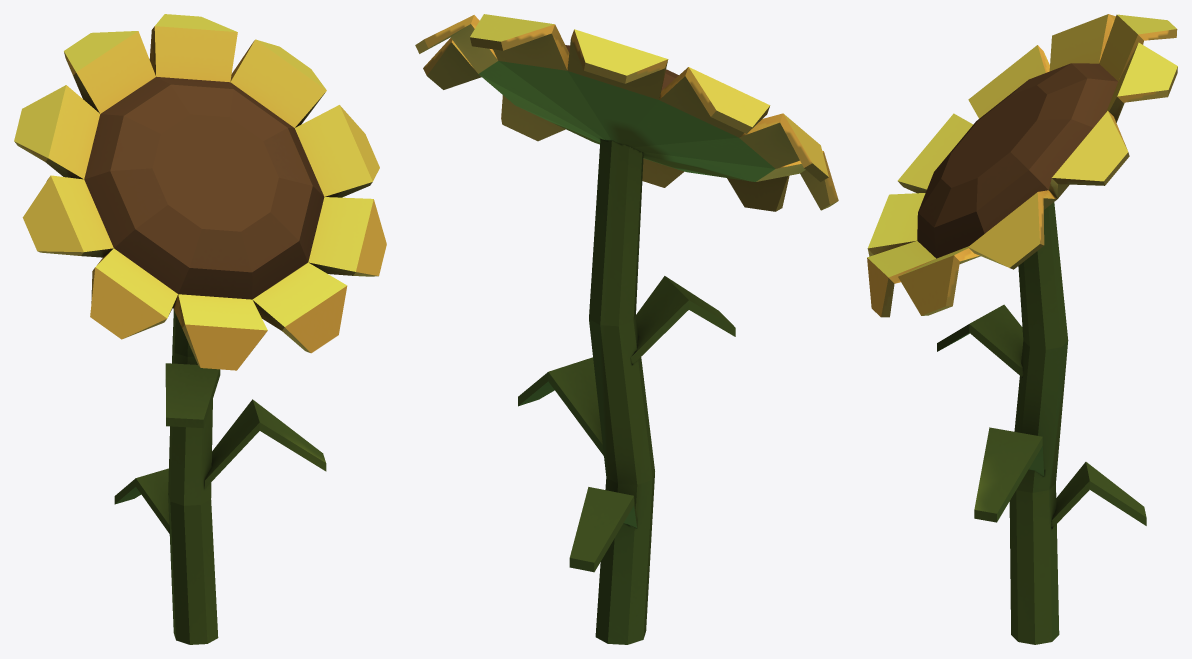
The model's file is PUSHILIN_sunflower.80145a7b.glb.
3 renders of one model, left to right at view 1: azimuth 30°, elevation 25°; view 2: azimuth 150°, elevation 25°; view 3: azimuth 270°, elevation 25°, orthographic. The views are drawn at different scales.
Visible parts, largest first — view 1: node-0; view 2: node-0; view 3: node-0.
Boxes of the visible parts, x1,y1,x2,y2 form: node-0: (14,14,386,644); node-0: (415,14,838,644); node-0: (867,14,1177,644).
Bounding box in the file's own units: 1.22 × 1.93 × 0.9139.
1 material, 1 textured.
